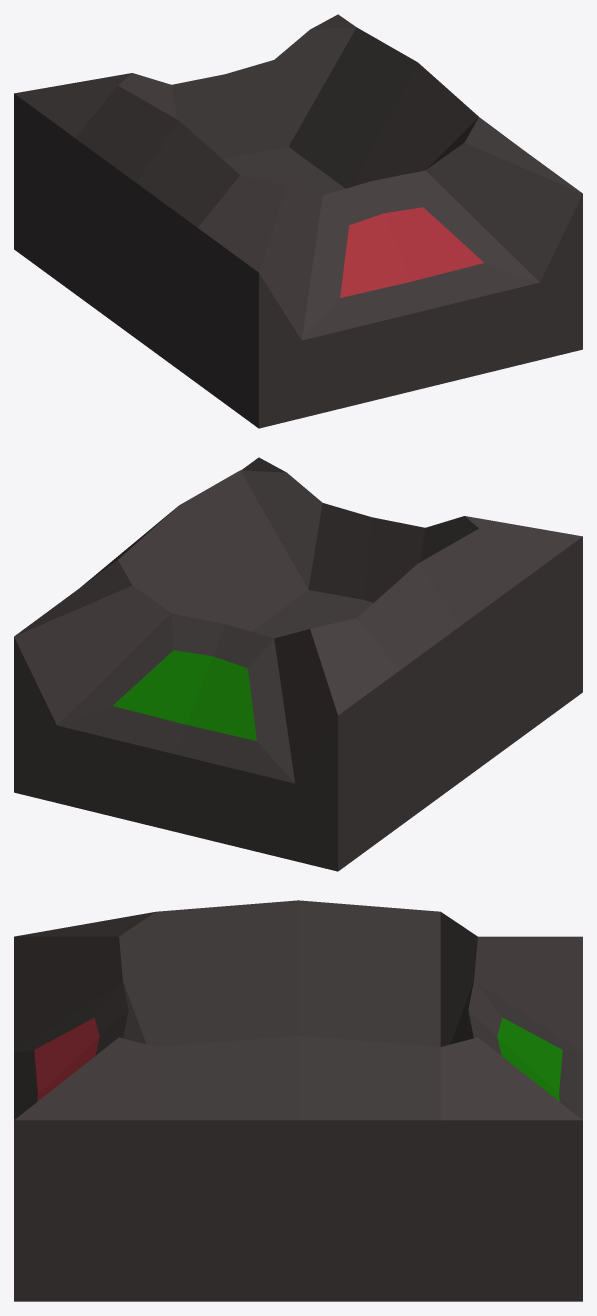
Rendered from betterLeverBase.fbx.
The picture shows the model from 3 angles, top to bottom: view 1: azimuth 30°, elevation 25°; view 2: azimuth 150°, elevation 25°; view 3: azimuth 270°, elevation 25°; orthographic projection. The views are drawn at different scales.
Parts seen in each view (by area): view 1: Cube.001; view 2: Cube.001; view 3: Cube.001.
Part boxes in pixels (x1,y1,x2,y2): Cube.001: [14, 14, 582, 428]; Cube.001: [14, 457, 582, 871]; Cube.001: [14, 900, 582, 1301].
Bounding box in the file's own units: 221 × 136 × 290.
